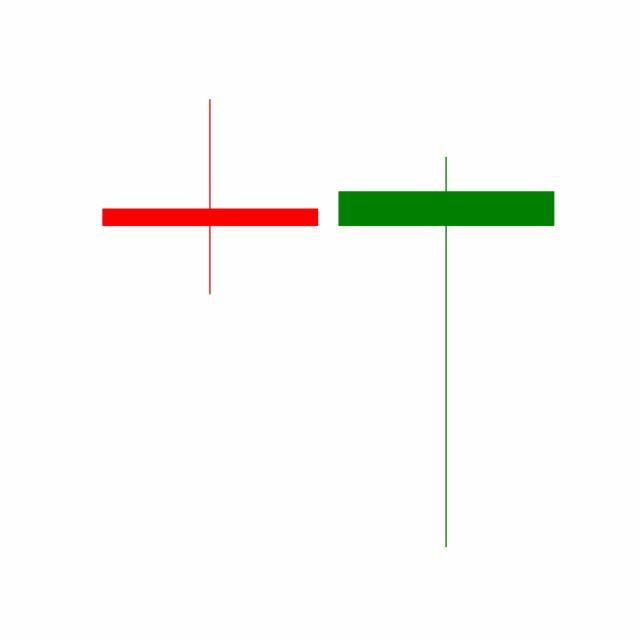Hammer: (328, 153, 566, 553)
